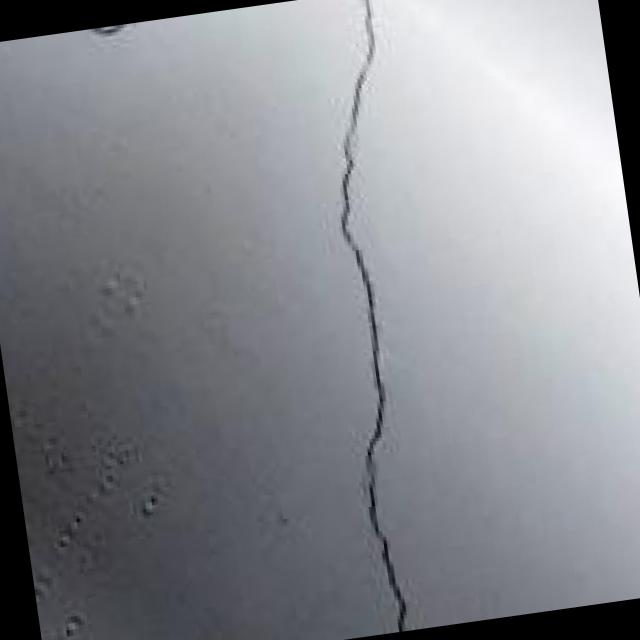crack: (253, 0, 529, 637)
